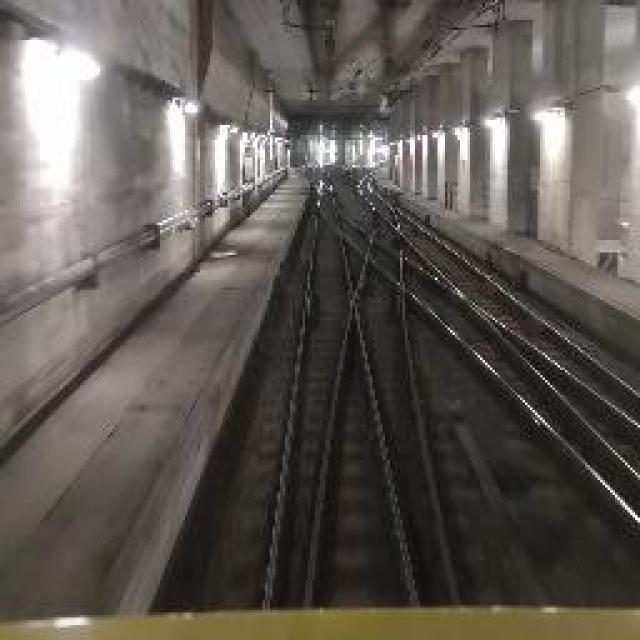rail: (241, 161, 481, 615)
